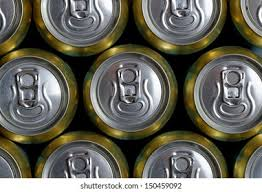can: (82, 51, 172, 132), (181, 54, 262, 137), (0, 55, 74, 140), (31, 2, 133, 50), (36, 135, 129, 185), (130, 0, 227, 46), (134, 141, 227, 178), (0, 0, 30, 53)
